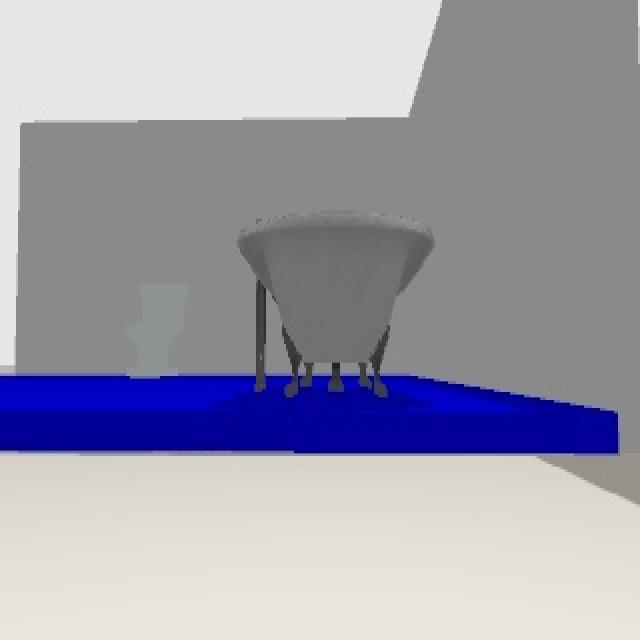bathtub: (232, 202, 434, 401)
